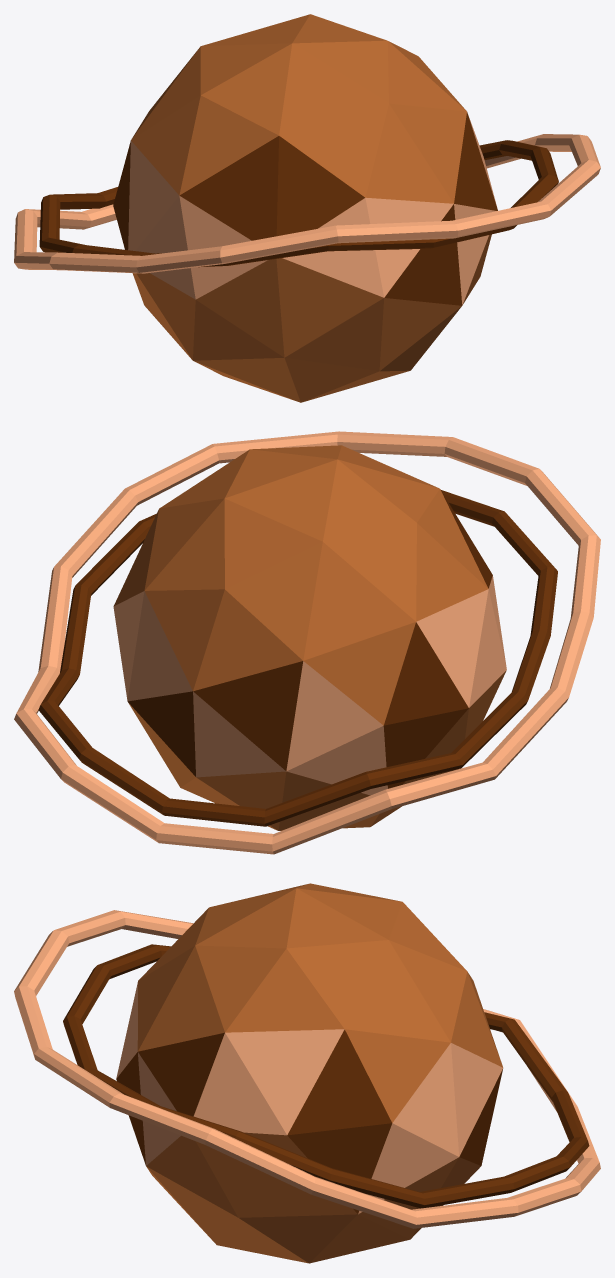
File: planete_01.FBX
3 views of the same model, one above another, from view 1: azimuth 30°, elevation 25°; view 2: azimuth 150°, elevation 25°; view 3: azimuth 270°, elevation 25° (orthographic). The views are drawn at different scales.
Parts seen in each view (by area): view 1: Icosphere.004; view 2: Icosphere.004; view 3: Icosphere.004.
Boxes of the visible parts, box(x1,y1,x2,y2) form: Icosphere.004: box(14, 14, 600, 402); Icosphere.004: box(14, 431, 600, 854); Icosphere.004: box(14, 883, 600, 1263).
Size of the model in its own units: 448 by 449 by 296.
